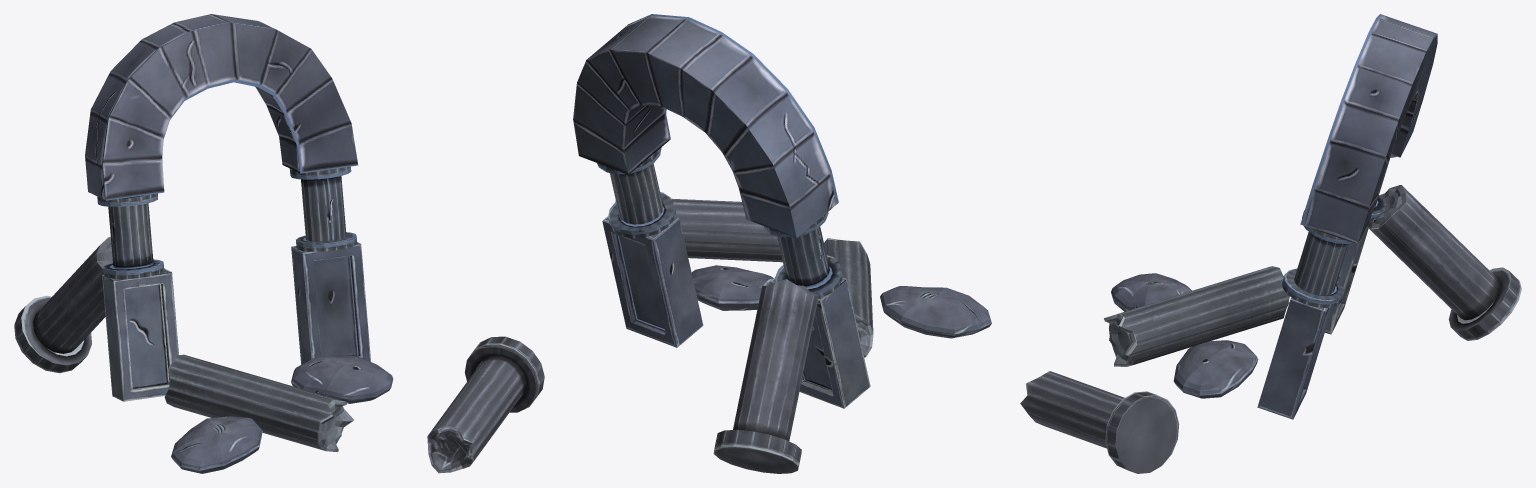
File: ruins.fbx
The picture shows the model from 3 angles, left to right: view 1: azimuth 30°, elevation 25°; view 2: azimuth 150°, elevation 25°; view 3: azimuth 270°, elevation 25°; orthographic projection. The views are drawn at different scales.
Visible parts, largest first — view 1: Cylinder.001, Cylinder.006, Cylinder.005, Cylinder.002, Cylinder.003, Cylinder.004; view 2: Cylinder.001, Cylinder.002, Cylinder.005, Cylinder.003, Cylinder.004, Cylinder.006; view 3: Cylinder.001, Cylinder.002, Cylinder.006, Cylinder.005, Cylinder.004, Cylinder.003.
Boxes of the visible parts, bbox=[...] form: Cylinder.001: bbox=[85, 14, 370, 401]; Cylinder.006: bbox=[164, 354, 353, 452]; Cylinder.005: bbox=[427, 336, 544, 473]; Cylinder.002: bbox=[14, 237, 112, 373]; Cylinder.003: bbox=[171, 416, 262, 473]; Cylinder.004: bbox=[291, 355, 393, 403]; Cylinder.001: bbox=[573, 14, 870, 408]; Cylinder.002: bbox=[713, 279, 818, 473]; Cylinder.005: bbox=[615, 198, 782, 262]; Cylinder.003: bbox=[880, 286, 991, 338]; Cylinder.004: bbox=[691, 265, 773, 310]; Cylinder.006: bbox=[824, 238, 873, 357]; Cylinder.001: bbox=[1257, 14, 1437, 419]; Cylinder.002: bbox=[1367, 185, 1521, 340]; Cylinder.006: bbox=[1104, 266, 1289, 366]; Cylinder.005: bbox=[1020, 371, 1179, 473]; Cylinder.004: bbox=[1173, 340, 1258, 398]; Cylinder.003: bbox=[1111, 273, 1192, 311].
Bounding box in the file's own units: 2.97 × 2.83 × 3.56.
